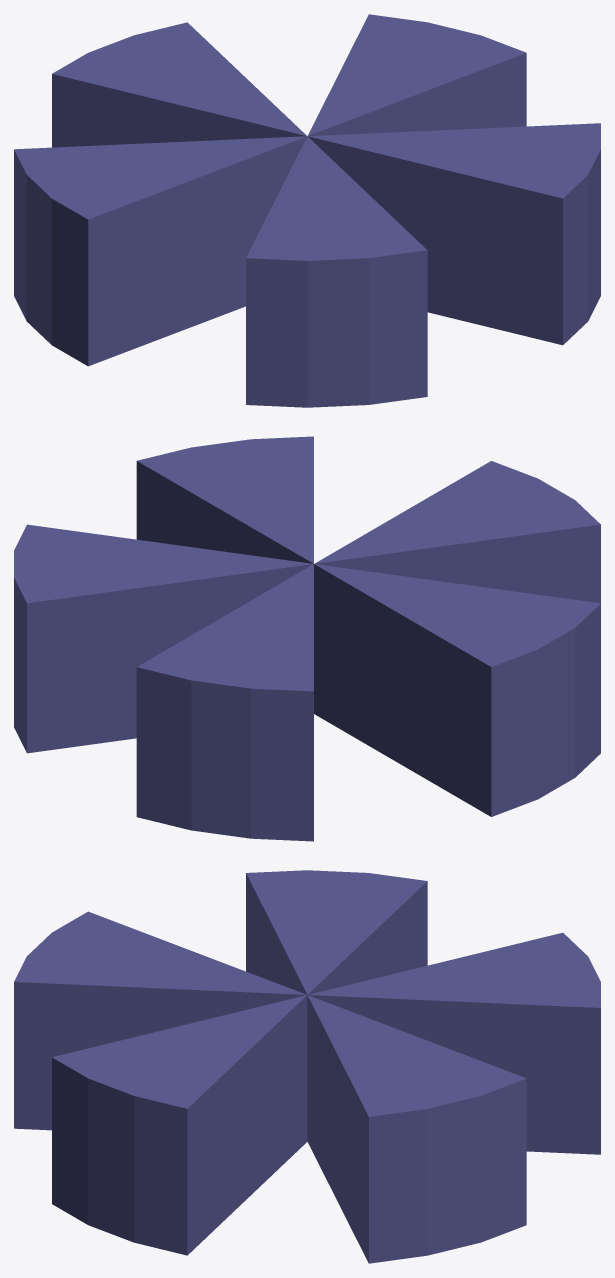
Rendered from HelixJumpV4.fbx.
The picture shows the model from 3 angles, top to bottom: view 1: azimuth 30°, elevation 25°; view 2: azimuth 150°, elevation 25°; view 3: azimuth 270°, elevation 25°; orthographic projection. The views are drawn at different scales.
Parts seen in each view (by area): view 1: v4; view 2: v4; view 3: v4.
Part boxes in pixels (x1,y1,x2,y2): v4: (14,14,600,407); v4: (14,436,600,841); v4: (14,870,600,1263).
Size of the model in its own units: 527 by 146 by 529.
